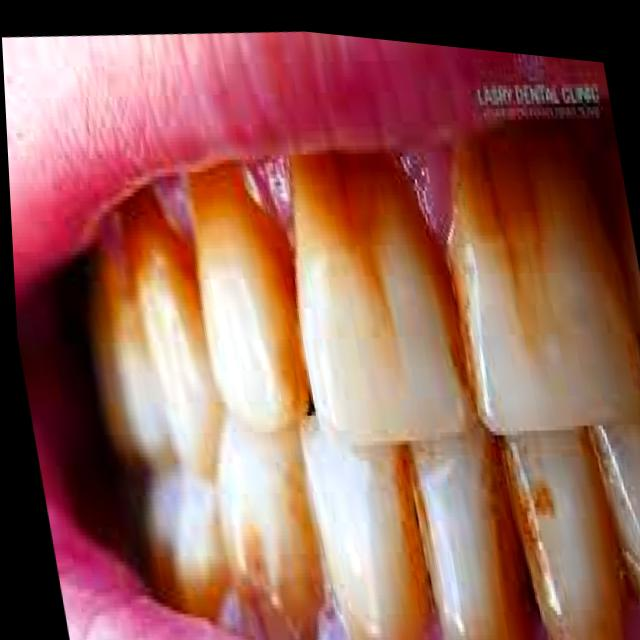tooth-discoloration: (187, 163, 321, 640)
